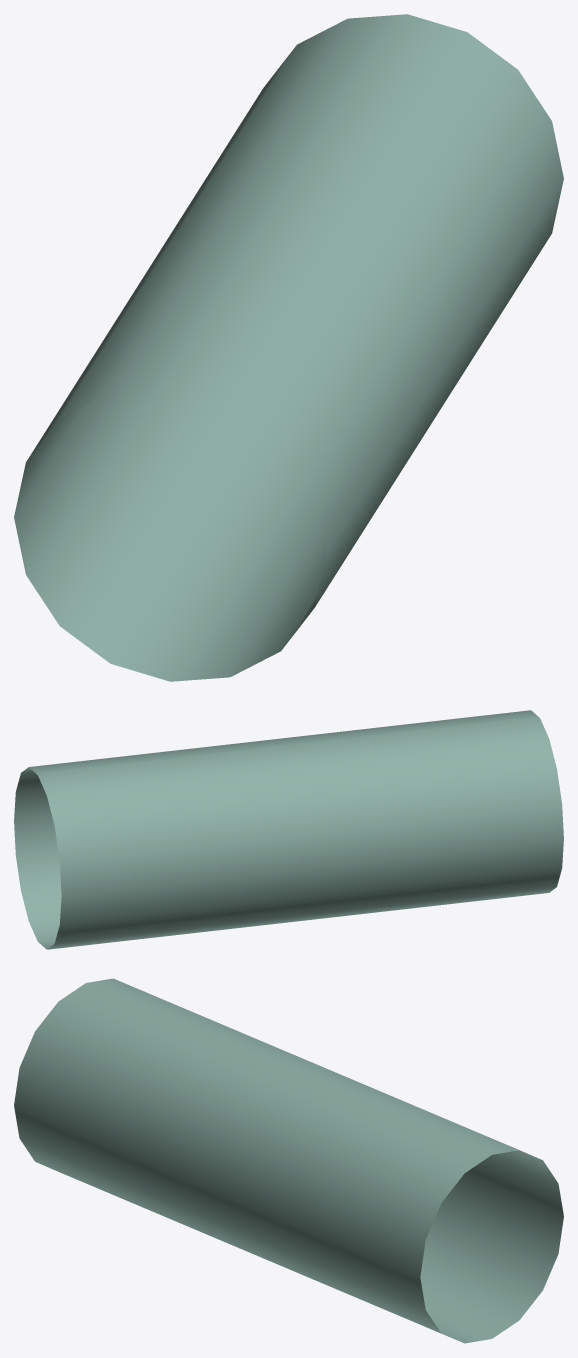
Rendered from PipeLarge_StraightDiagonal_03.fbx.
The picture shows the model from 3 angles, top to bottom: view 1: azimuth 30°, elevation 25°; view 2: azimuth 150°, elevation 25°; view 3: azimuth 270°, elevation 25°; orthographic projection. The views are drawn at different scales.
Visible parts, largest first — view 1: PipeLarge_StraightDiagonal_03.001; view 2: PipeLarge_StraightDiagonal_03.001; view 3: PipeLarge_StraightDiagonal_03.001.
Boxes of the visible parts, x1,y1,x2,y2 form: PipeLarge_StraightDiagonal_03.001: [14, 14, 563, 681]; PipeLarge_StraightDiagonal_03.001: [14, 710, 563, 949]; PipeLarge_StraightDiagonal_03.001: [14, 978, 563, 1343].
Bounding box in the file's own units: 0.5414 × 0.2 × 0.5414.
